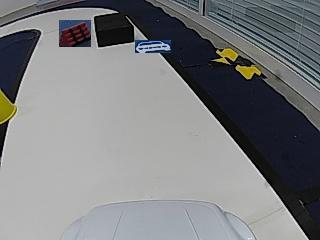block: (94, 13, 134, 47)
cone: (0, 88, 18, 124)
